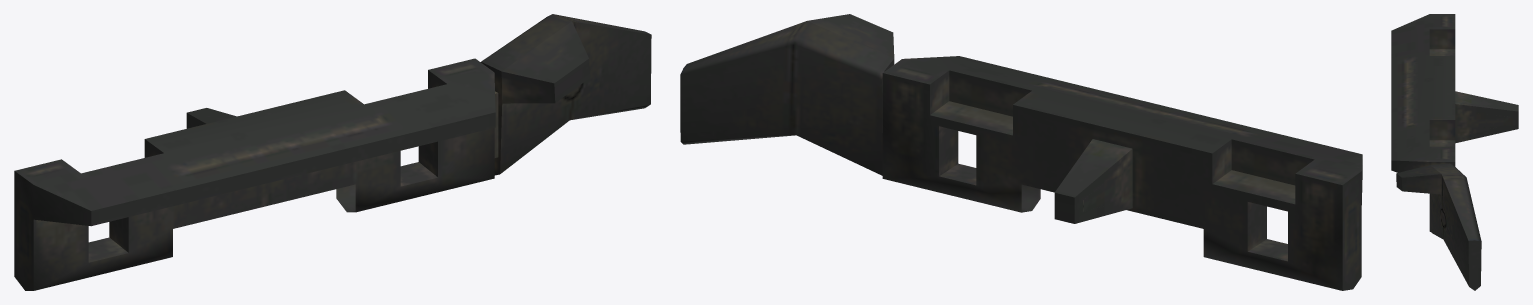
3 views of the same model, side by side, from view 1: azimuth 30°, elevation 25°; view 2: azimuth 150°, elevation 25°; view 3: azimuth 270°, elevation 25° (orthographic). The views are drawn at different scales.
Visible parts, largest first — view 1: set_0_group_0; view 2: set_0_group_0; view 3: set_0_group_0.
Part boxes in pixels (left/top/right/bottom): set_0_group_0: left=14, top=14, right=651, bottom=290; set_0_group_0: left=680, top=14, right=1362, bottom=290; set_0_group_0: left=1391, top=14, right=1518, bottom=290.
Size of the model in its own units: 0.7724 by 0.1549 by 0.2.
1 material, 1 textured.
